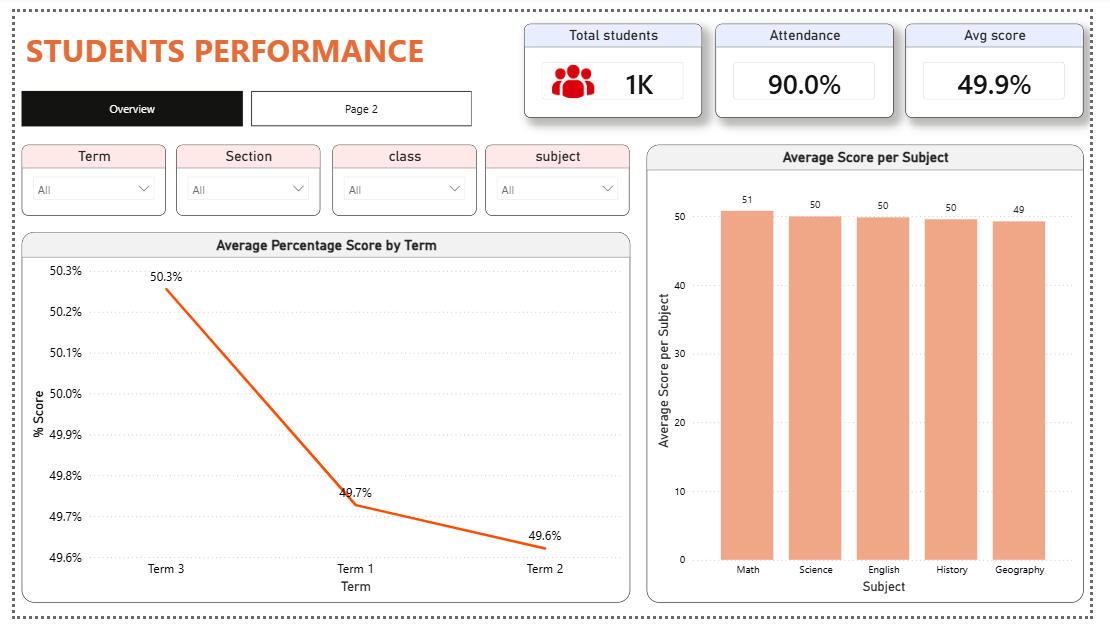

What the dashboard file says about the page in this screenshot:
{"tool":"powerbi","page":{"name":"Overview","canvas":[1280,720],"ordinal":0},"visuals":[{"type":"lineChart","title":"Average Percentage Score by Term","fields":{"Category":["Scores - Scores csv.Term"],"Y":["Scores - Scores csv.% Score"]},"box":[7.7,262.1,724.6,441.3],"z":1},{"type":"clusteredColumnChart","title":"Average Score per Subject","fields":{"Category":["Scores - Scores csv.Subject"],"Y":["Scores - Scores csv.Average Score per Subject"]},"box":[751.6,158,520.3,545.4],"z":3},{"type":"cardVisual","title":"Avg score","fields":{"Data":["Scores - Scores csv.% Score"]},"box":[1059.9,13.5,212,111.8],"z":4},{"type":"cardVisual","title":"Total students","fields":{"Data":["Count(Behavior - Behavior csv.StudentID)"]},"box":[605.1,13.5,212,111.8],"z":5},{"type":"cardVisual","title":"Attendance","fields":{"Data":["Attendance - Attendance csv.Attendance %"]},"box":[834.4,13.5,212,111.8],"z":6},{"type":"slicer","title":"class","fields":{"Values":["Students - Students csv.Class"]},"box":[377.7,158,171.5,84.8],"z":7},{"type":"slicer","title":"Section","fields":{"Values":["Students - Students csv.Section"]},"box":[192.7,158,171.5,84.8],"z":8},{"type":"slicer","title":"Term","fields":{"Values":["Scores - Scores csv.Term"]},"box":[7.7,158,171.5,84.8],"z":9},{"type":"slicer","title":"subject","fields":{"Values":["Scores - Scores csv.Subject"]},"box":[560.8,158,171.5,84.8],"z":10},{"type":"textbox","box":[7.7,13.5,529.9,80.9],"z":11},{"type":"pageNavigator","box":[7.7,94.4,537.7,42.4],"z":12}]}

Visuals, with their boxes in screenshot pixels (x1, y1, x2, y2), scaled from the page's 1280x720 canvas onto the 1110x625 screenshot:
"Average Percentage Score by Term" lineChart: x1=7, y1=228, x2=635, y2=611
"Average Score per Subject" clusteredColumnChart: x1=652, y1=137, x2=1103, y2=611
"Avg score" cardVisual: x1=919, y1=12, x2=1103, y2=109
"Total students" cardVisual: x1=525, y1=12, x2=709, y2=109
"Attendance" cardVisual: x1=724, y1=12, x2=907, y2=109
"class" slicer: x1=328, y1=137, x2=476, y2=211
"Section" slicer: x1=167, y1=137, x2=316, y2=211
"Term" slicer: x1=7, y1=137, x2=155, y2=211
"subject" slicer: x1=486, y1=137, x2=635, y2=211
textbox: x1=7, y1=12, x2=466, y2=82
pageNavigator: x1=7, y1=82, x2=473, y2=119
